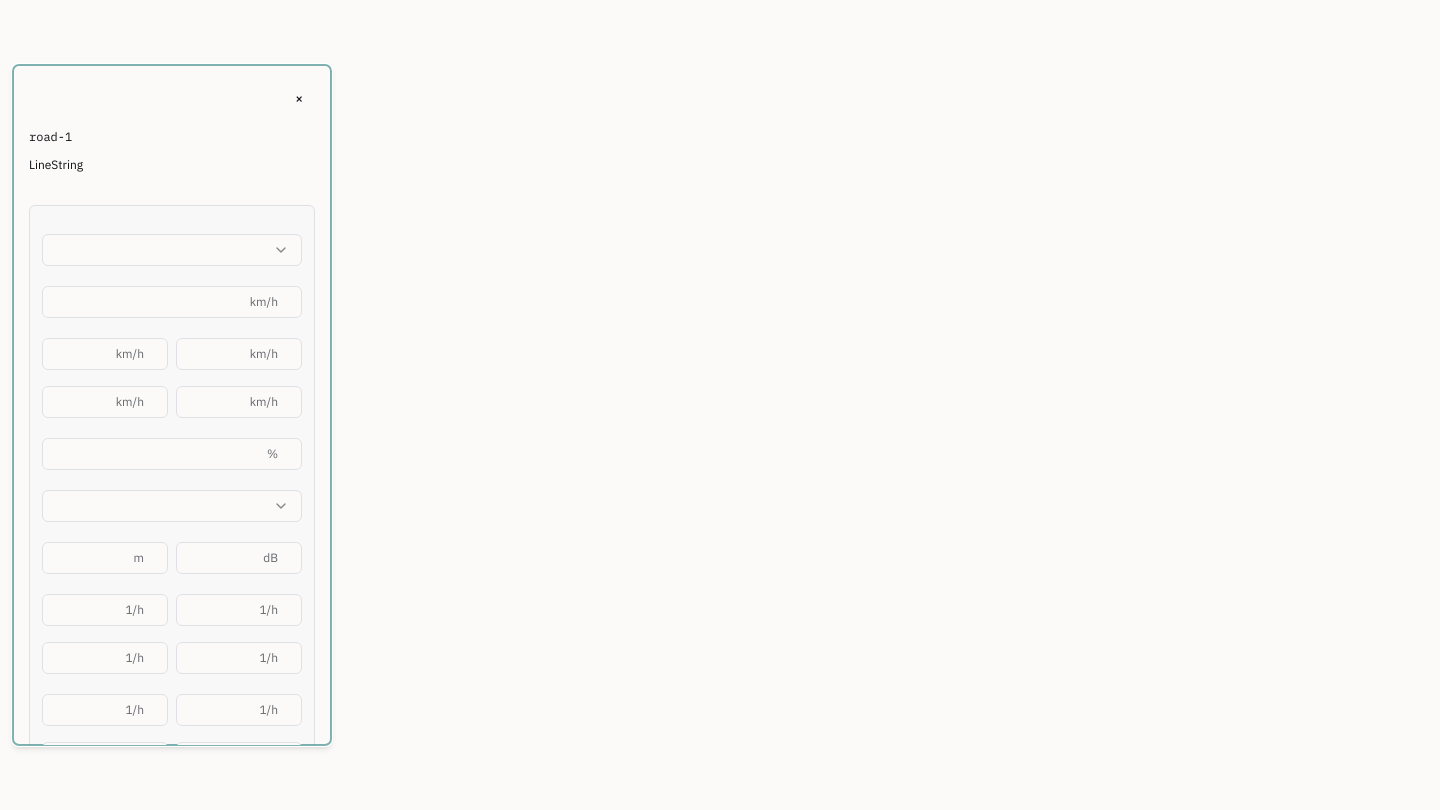
it: FeatureEditor RLS-19 select fields › offers every junction type
Click the 2nd dropdown.
click(281, 506)  # box [42, 490, 302, 522]
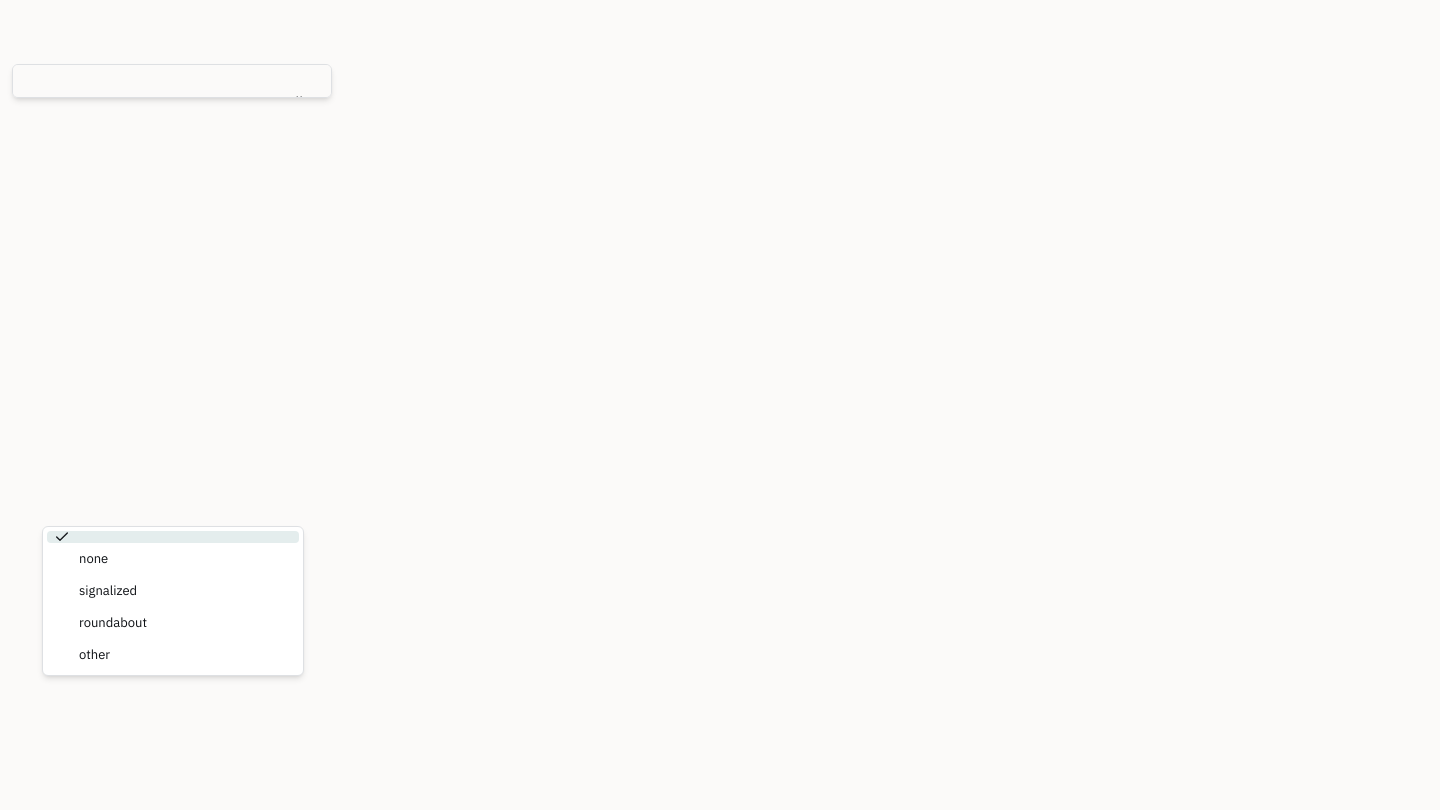
Check: the option "none" is shown, box [79, 550, 108, 567]
Check: the option "signalized" is shown, box [79, 582, 137, 599]
Check: the option "roundabout" is shown, box [79, 614, 147, 631]
